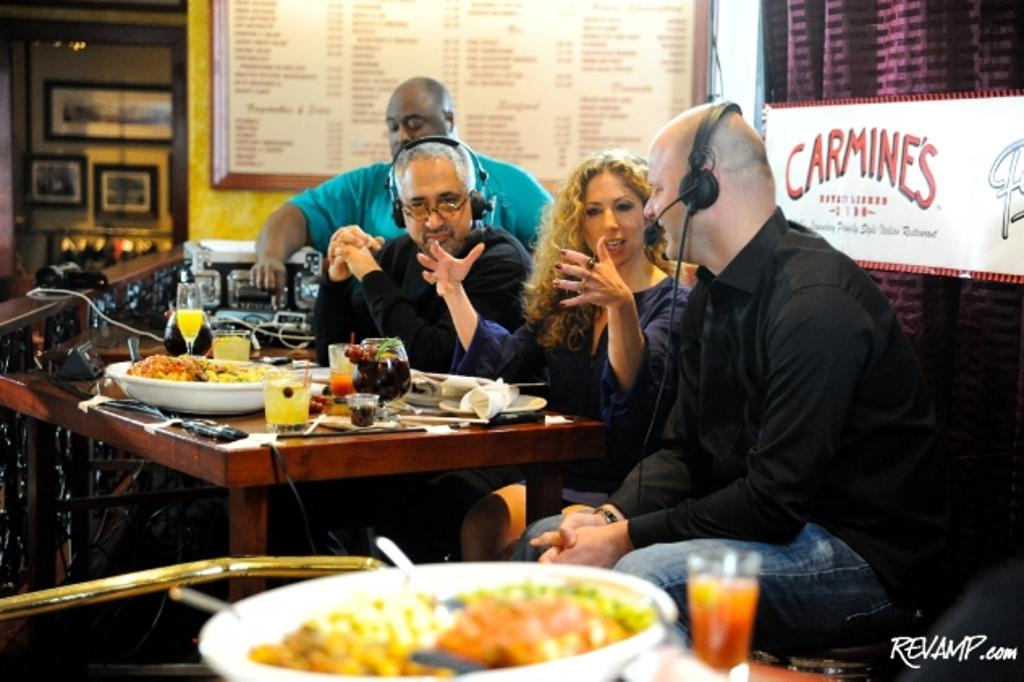face: (643, 131, 702, 258), (395, 157, 472, 254), (581, 177, 643, 267), (385, 95, 446, 165)
